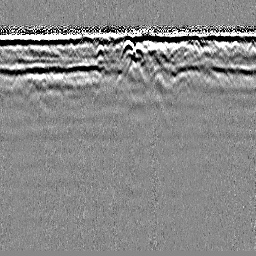cavity: (119, 38, 136, 57)
